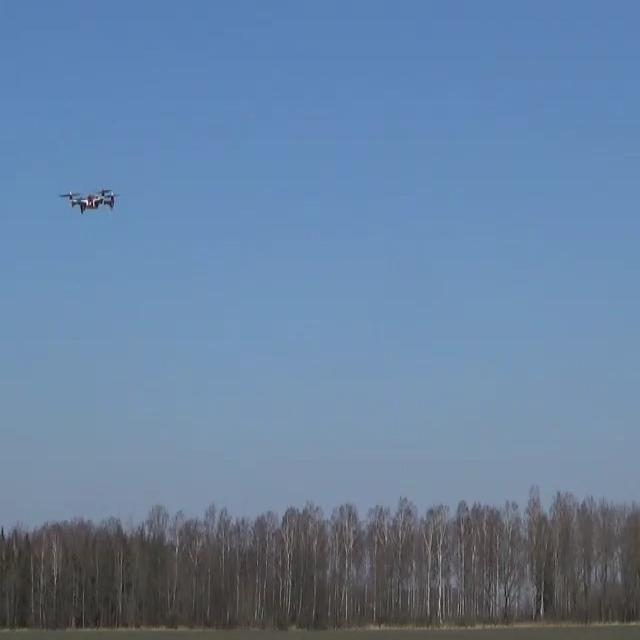drone: (58, 186, 118, 214)
